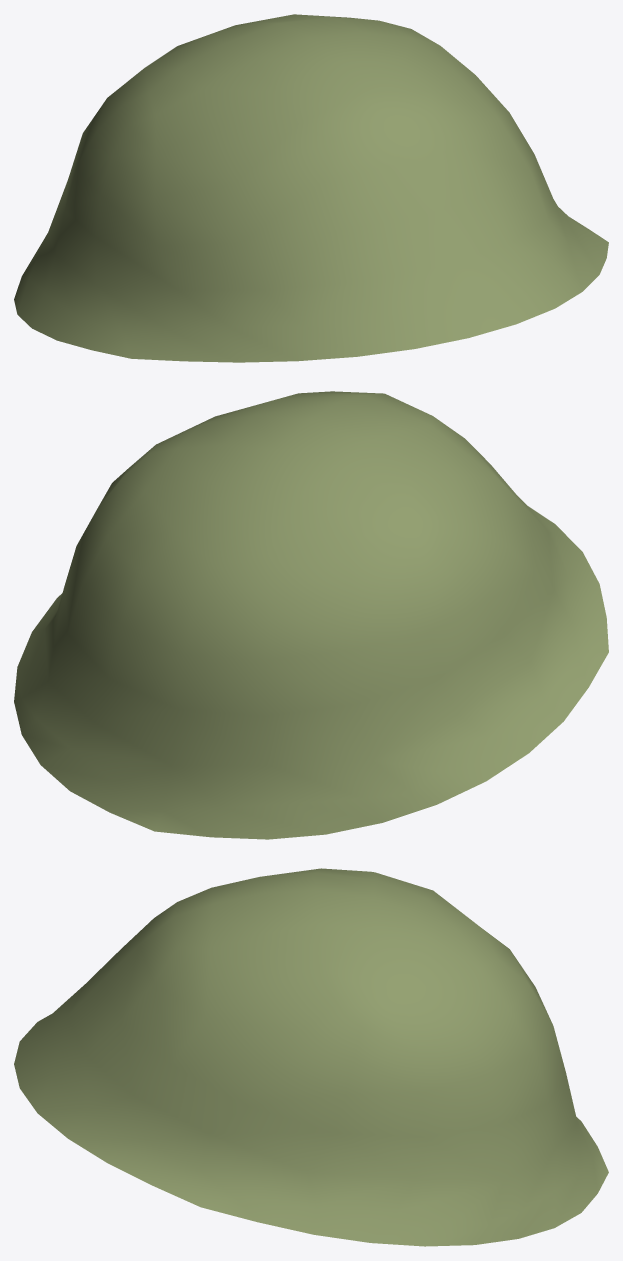
File: Player_Helmet_Type_1.fbx
3 views of the same model, one above another, from view 1: azimuth 30°, elevation 25°; view 2: azimuth 150°, elevation 25°; view 3: azimuth 270°, elevation 25° (orthographic). The views are drawn at different scales.
Visible parts, largest first — view 1: Player_Helmet_Type_1; view 2: Player_Helmet_Type_1; view 3: Player_Helmet_Type_1.
Boxes of the visible parts, bbox=[...] form: Player_Helmet_Type_1: bbox=[14, 14, 608, 362]; Player_Helmet_Type_1: bbox=[14, 391, 608, 839]; Player_Helmet_Type_1: bbox=[14, 868, 608, 1246].
Bounding box in the file's own units: 41.58 × 23.36 × 44.66.
